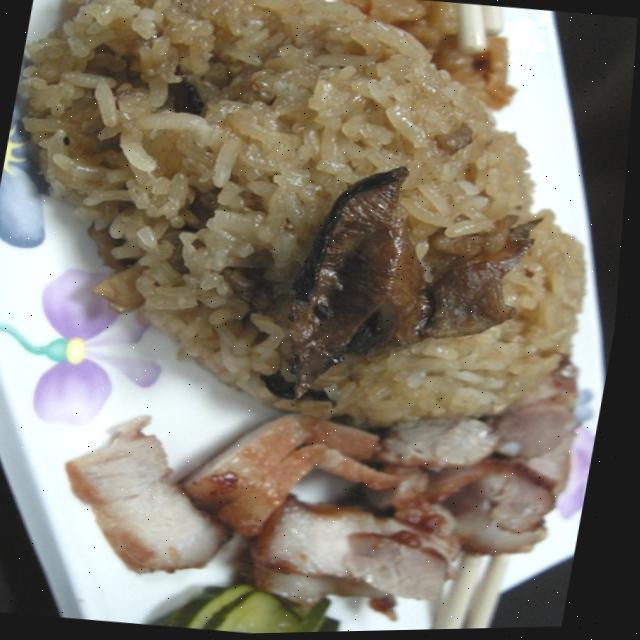米饭主食: (0, 0, 635, 453)
